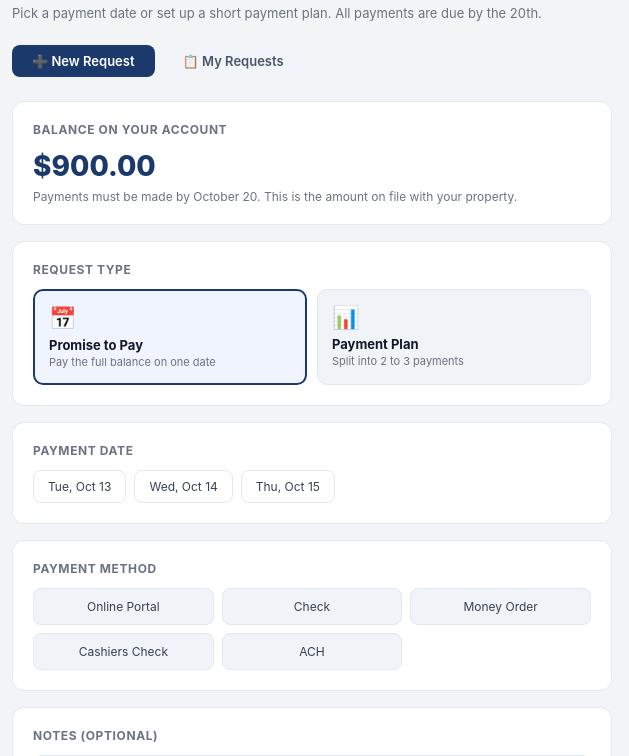
Test case: server error on submit is shown to the resident
Check: the text "$900.00" is shown, box [33,149,156,183]
Click the button "Wed, Oct 14": x=184, y=486 [134,470,233,503]
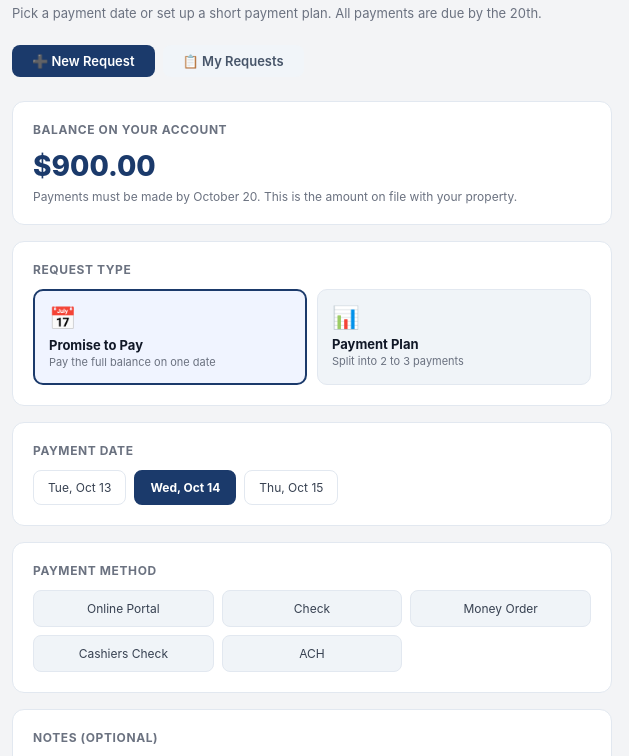
Click the button "ACH": x=312, y=654 [222,635,402,672]
(page scrolled)
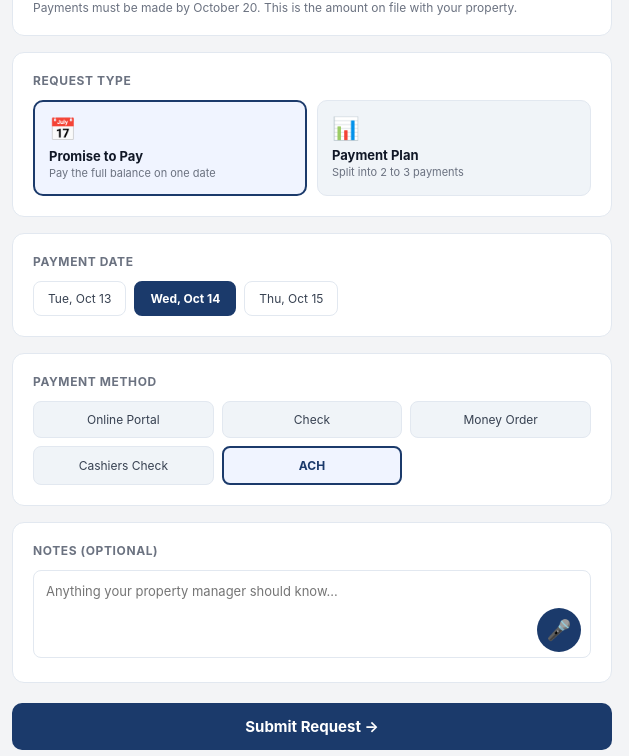
Click the button "Submit Request →": x=312, y=726 [12,703,612,750]
(page scrolled)
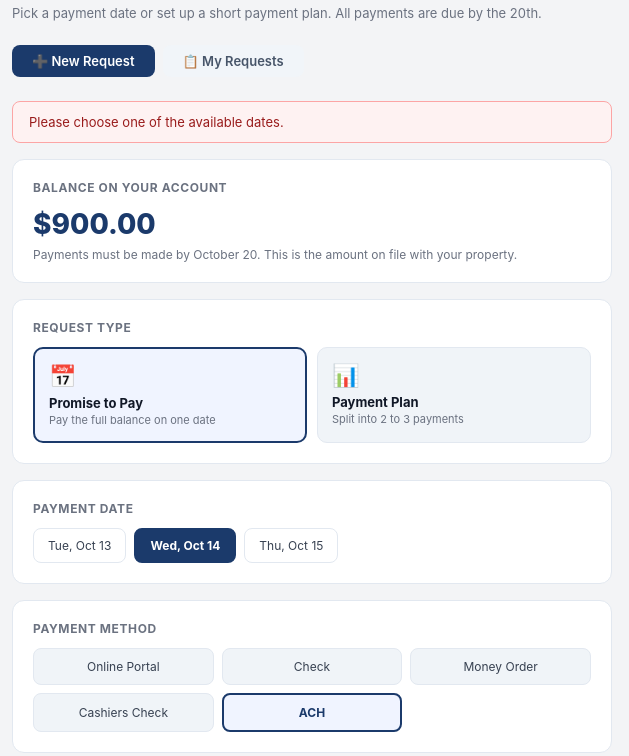
Check: the text "Please choose one of the available dates." is shown, box [12,101,612,143]
